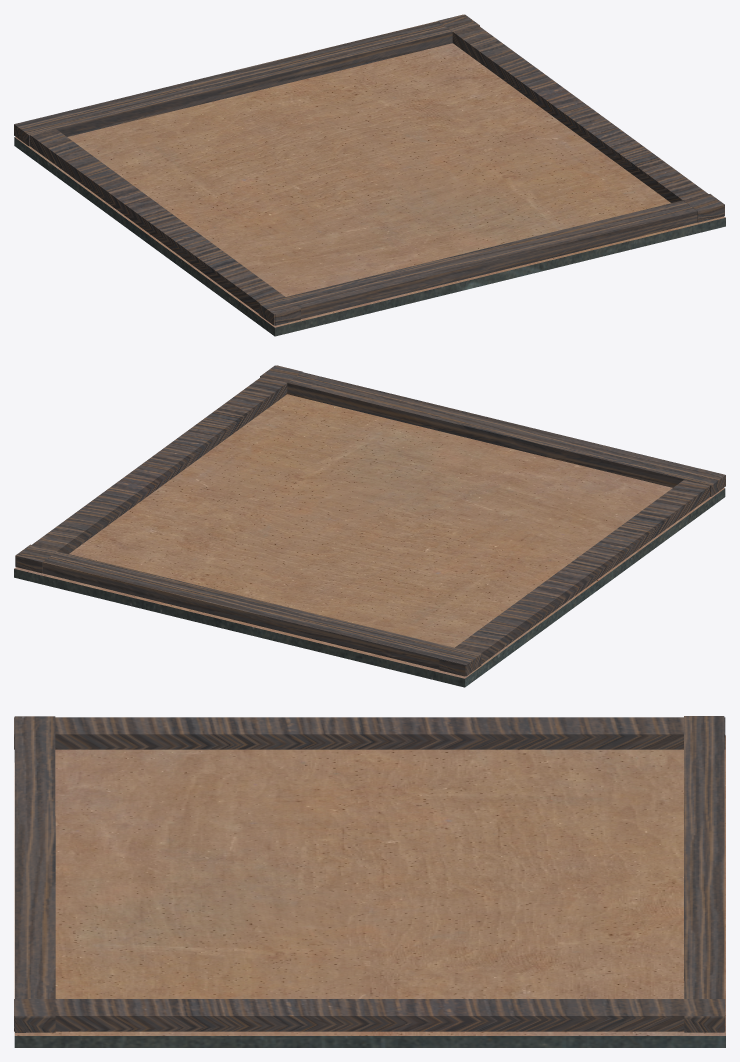
Rendered from instructionBoardTyler.obj.
The picture shows the model from 3 angles, top to bottom: view 1: azimuth 30°, elevation 25°; view 2: azimuth 150°, elevation 25°; view 3: azimuth 270°, elevation 25°; orthographic projection. The views are drawn at different scales.
Parts seen in each view (by area): view 1: Cube.000_Cube.004, Cube.002_Cube.005; view 2: Cube.000_Cube.004, Cube.002_Cube.005; view 3: Cube.000_Cube.004, Cube.002_Cube.005.
Boxes of the visible parts, bbox=[...] form: Cube.000_Cube.004: bbox=[14, 43, 725, 336]; Cube.002_Cube.005: bbox=[14, 14, 724, 325]; Cube.000_Cube.004: bbox=[14, 394, 725, 687]; Cube.002_Cube.005: bbox=[15, 365, 725, 676]; Cube.000_Cube.004: bbox=[14, 735, 725, 1047]; Cube.002_Cube.005: bbox=[14, 716, 725, 1032].
Size of the model in its own units: 200 by 9.49 by 200.
